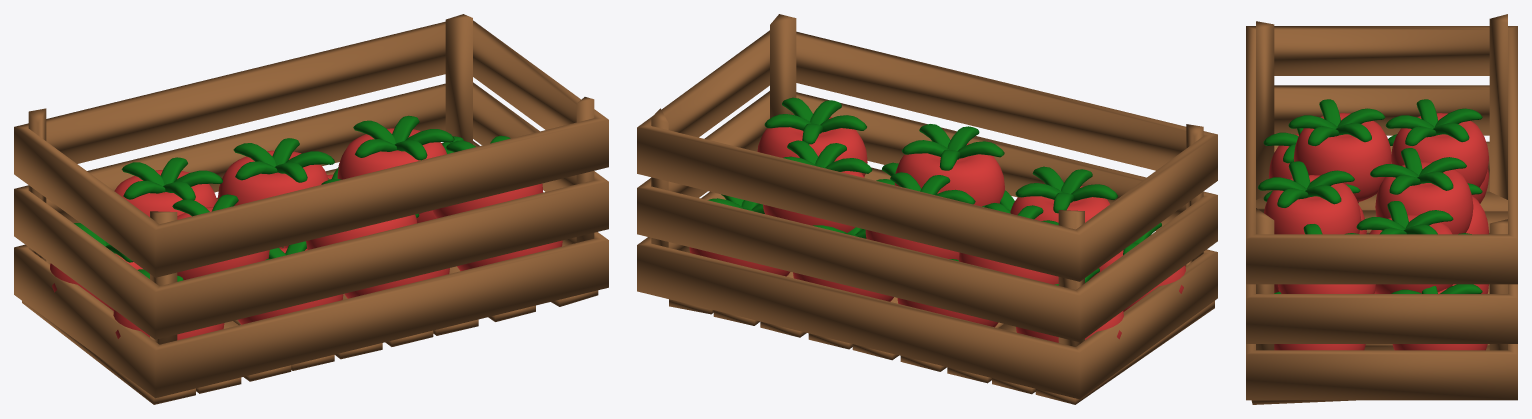
Rendered from kjg_tomatenkiste.fbx.
3 views of the same model, side by side, from view 1: azimuth 30°, elevation 25°; view 2: azimuth 150°, elevation 25°; view 3: azimuth 270°, elevation 25° (orthographic). The views are drawn at different scales.
Visible parts, largest first — view 1: Planks_low, blocks_low, PlanksBot_low, Sphere.008, Cube.009, Cube.008, Cube.011, Sphere.009, Sphere.011, Sphere.012, Sphere.013, Sphere.010 (+5 smaller); view 2: Planks_low, blocks_low, PlanksBot_low, Sphere.012, Cube.012, Cube.013, Cube.010, Sphere.013, Cube.009, Sphere.010, Cube.008, Sphere.011 (+6 smaller); view 3: Planks_low, blocks_low, Sphere.010, Sphere.012, Sphere.008, Sphere.011, Cube.012, Cube.010, Cube.011, Cube.008, Cube.009, PlanksBot_low (+8 smaller).
Part boxes in pixels (bbox=[...]): Planks_low: bbox=[14, 20, 608, 398]; blocks_low: bbox=[28, 14, 594, 344]; PlanksBot_low: bbox=[22, 246, 598, 404]; Sphere.008: bbox=[218, 150, 328, 205]; Cube.009: bbox=[353, 115, 454, 160]; Cube.008: bbox=[233, 138, 334, 182]; Cube.011: bbox=[121, 157, 222, 200]; Sphere.009: bbox=[337, 128, 446, 214]; Sphere.011: bbox=[114, 170, 217, 216]; Sphere.012: bbox=[306, 214, 416, 249]; Sphere.013: bbox=[432, 183, 542, 218]; Sphere.010: bbox=[177, 207, 269, 279]; Planks_low: bbox=[637, 30, 1217, 399]; blocks_low: bbox=[651, 14, 1203, 346]; PlanksBot_low: bbox=[669, 272, 1214, 404]; Sphere.012: bbox=[894, 143, 1004, 206]; Cube.012: bbox=[902, 124, 1004, 170]; Cube.013: bbox=[764, 97, 866, 144]; Cube.010: bbox=[1015, 166, 1117, 213]; Sphere.013: bbox=[757, 117, 867, 176]; Cube.009: bbox=[783, 140, 872, 173]; Sphere.010: bbox=[1010, 186, 1109, 222]; Cube.008: bbox=[890, 172, 975, 204]; Sphere.011: bbox=[958, 252, 1058, 284]; Planks_low: bbox=[1246, 26, 1517, 400]; blocks_low: bbox=[1256, 14, 1507, 350]; Sphere.010: bbox=[1293, 113, 1391, 201]; Sphere.012: bbox=[1264, 175, 1361, 234]; Sphere.008: bbox=[1375, 161, 1473, 234]; Sphere.011: bbox=[1391, 113, 1488, 194]; Cube.012: bbox=[1258, 161, 1354, 207]; Cube.010: bbox=[1288, 99, 1385, 146]; Cube.011: bbox=[1385, 99, 1482, 145]; Cube.008: bbox=[1370, 148, 1466, 194]; Cube.009: bbox=[1356, 201, 1453, 234]; PlanksBot_low: bbox=[1251, 191, 1507, 404].
Bounding box in the file's own units: 100 × 41.13 × 54.
